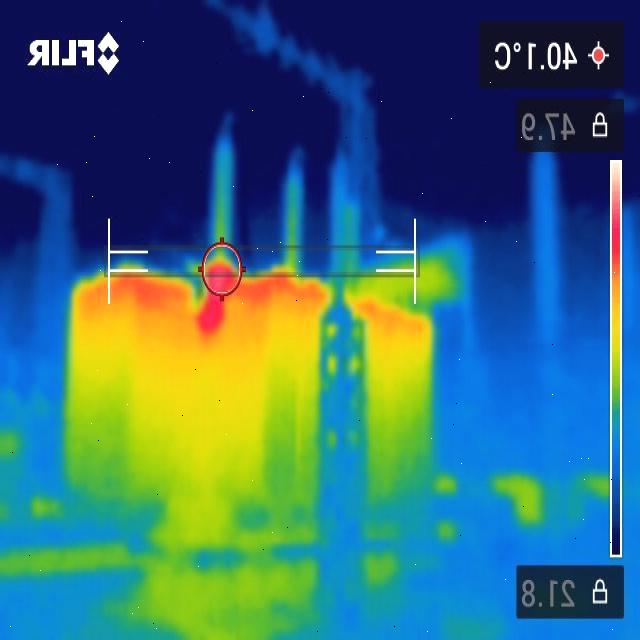loose_joint_yellow: (276, 164, 303, 271), (210, 151, 234, 240)
